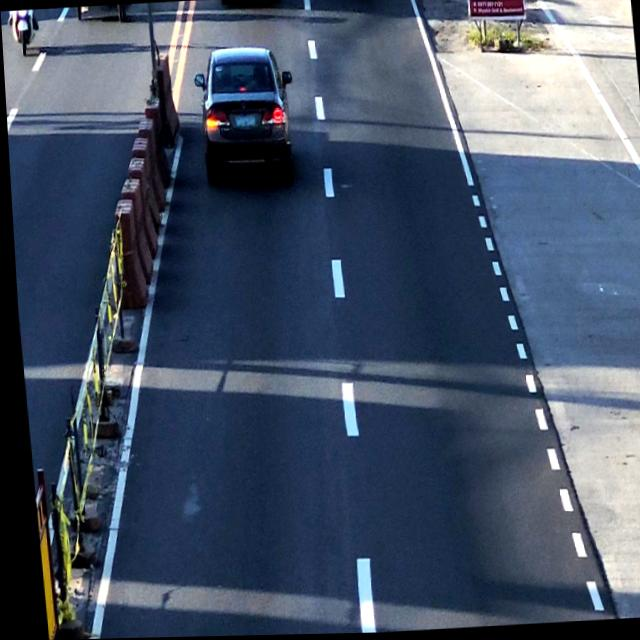Car: (198, 48, 291, 178)
License-Plate: (229, 114, 257, 130)
